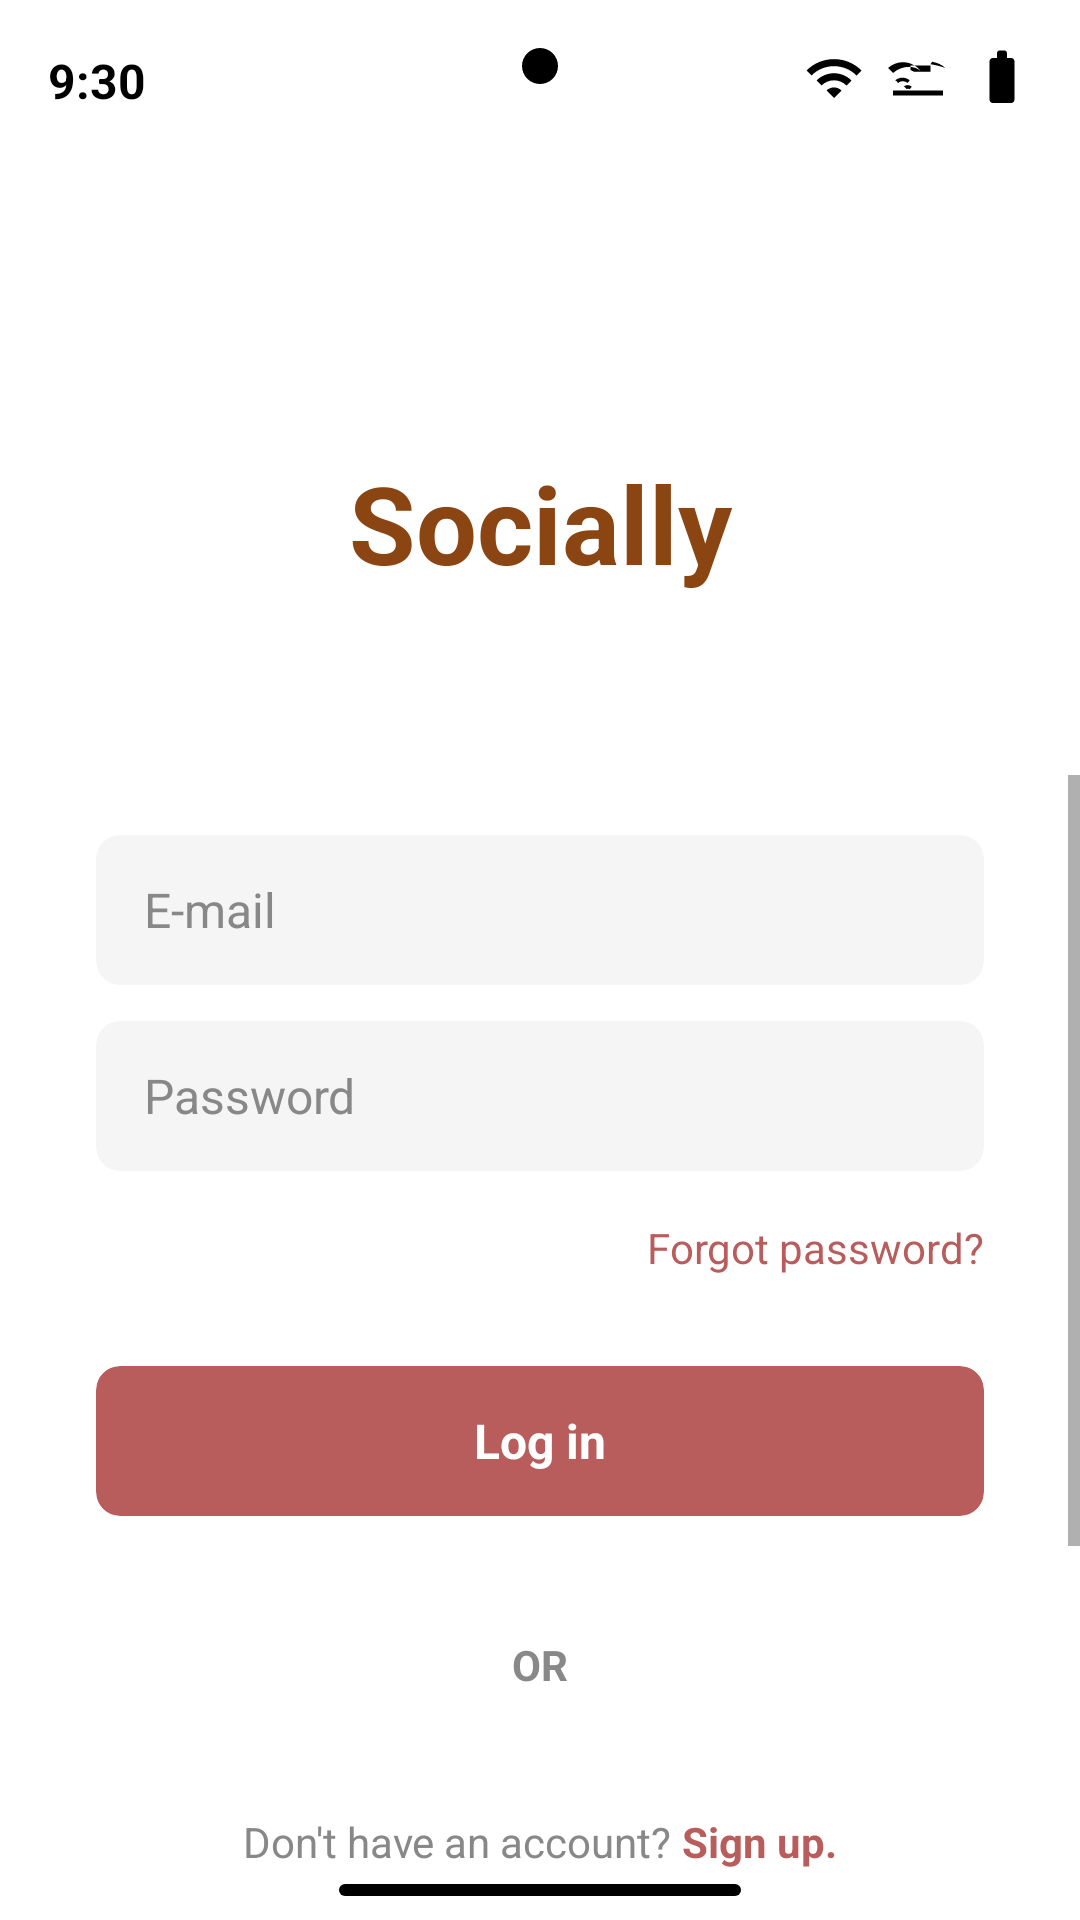

Locate icon controls on the screen. Image size 1080*1920, boxes as (x1, y1, x2, y2).
battery: (989, 50, 1015, 103)
wifi: (806, 59, 862, 98)
